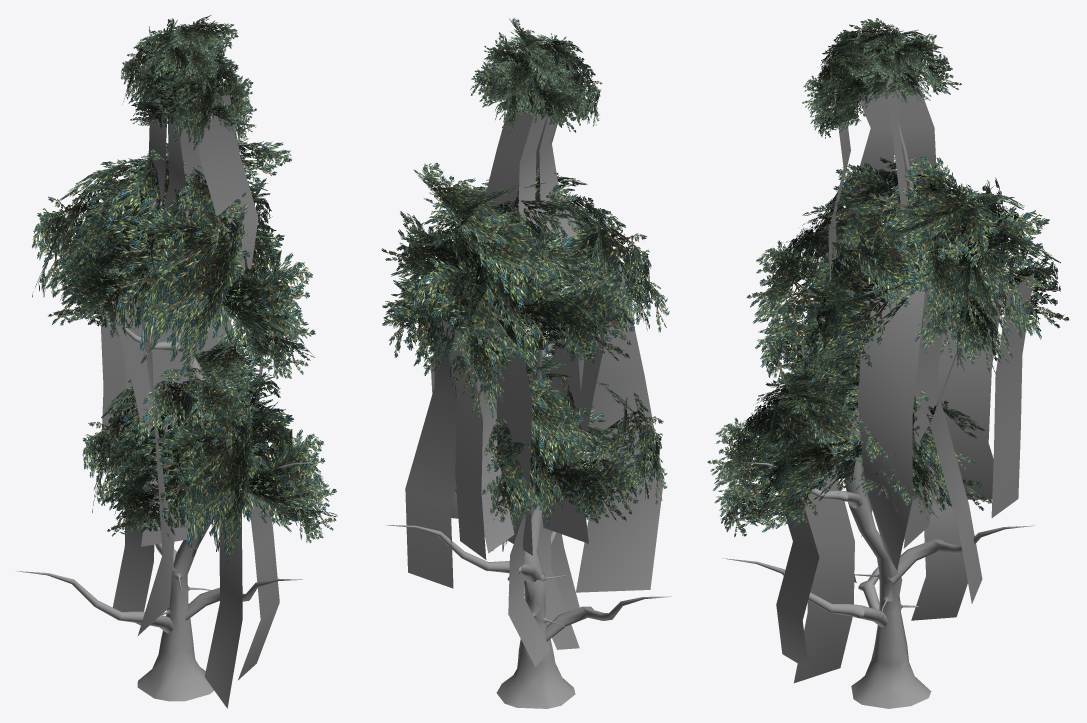
Rendered from elmtree_lod0.fbx.
3 renders of one model, left to right at view 1: azimuth 30°, elevation 25°; view 2: azimuth 150°, elevation 25°; view 3: azimuth 270°, elevation 25°, orthographic. The views are drawn at different scales.
Visible parts, largest first — view 1: Default_Layer; view 2: Default_Layer; view 3: Default_Layer.
Part boxes in pixels (bbox=[...]): Default_Layer: bbox=[16, 15, 337, 708]; Default_Layer: bbox=[381, 18, 671, 708]; Default_Layer: bbox=[707, 18, 1069, 708].
Size of the model in its own units: 682 by 1574 by 781.
